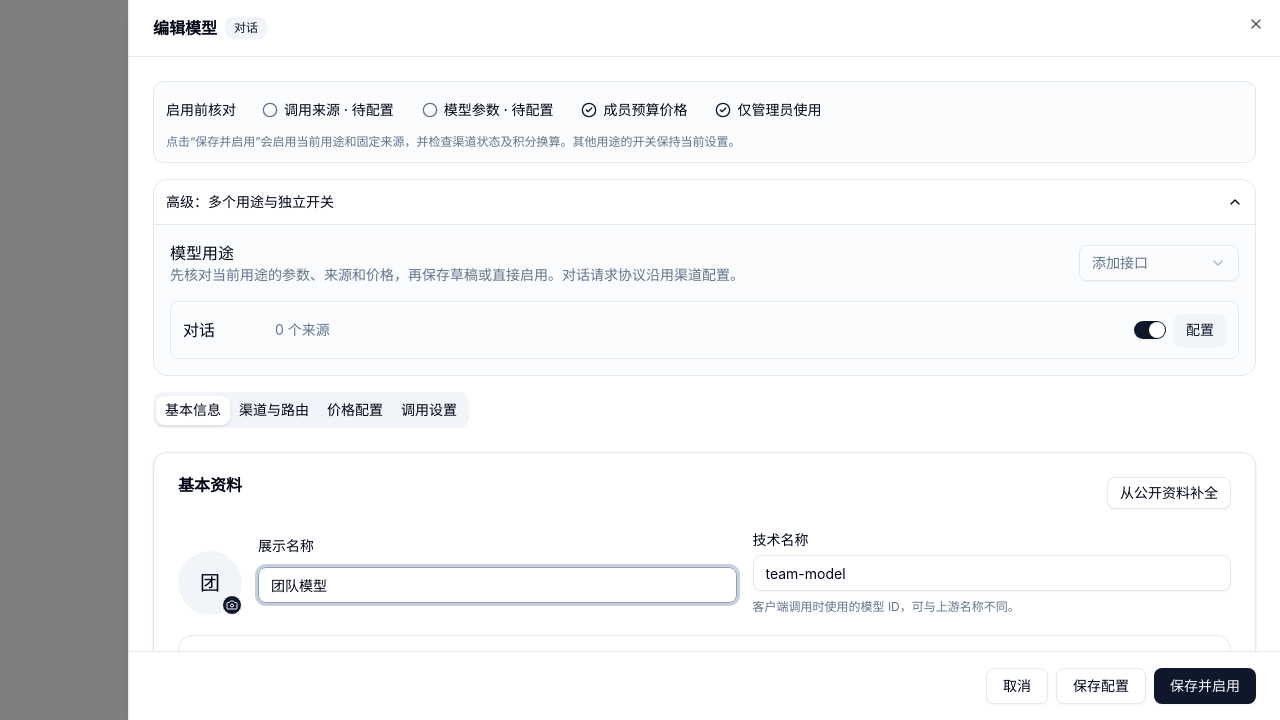
Scenario: shows a currency mismatch instead of a fabricated zero-point price
Click the tab "价格配置" at (355, 410), box left=318, top=396, right=392, bottom=424
(page scrolled)
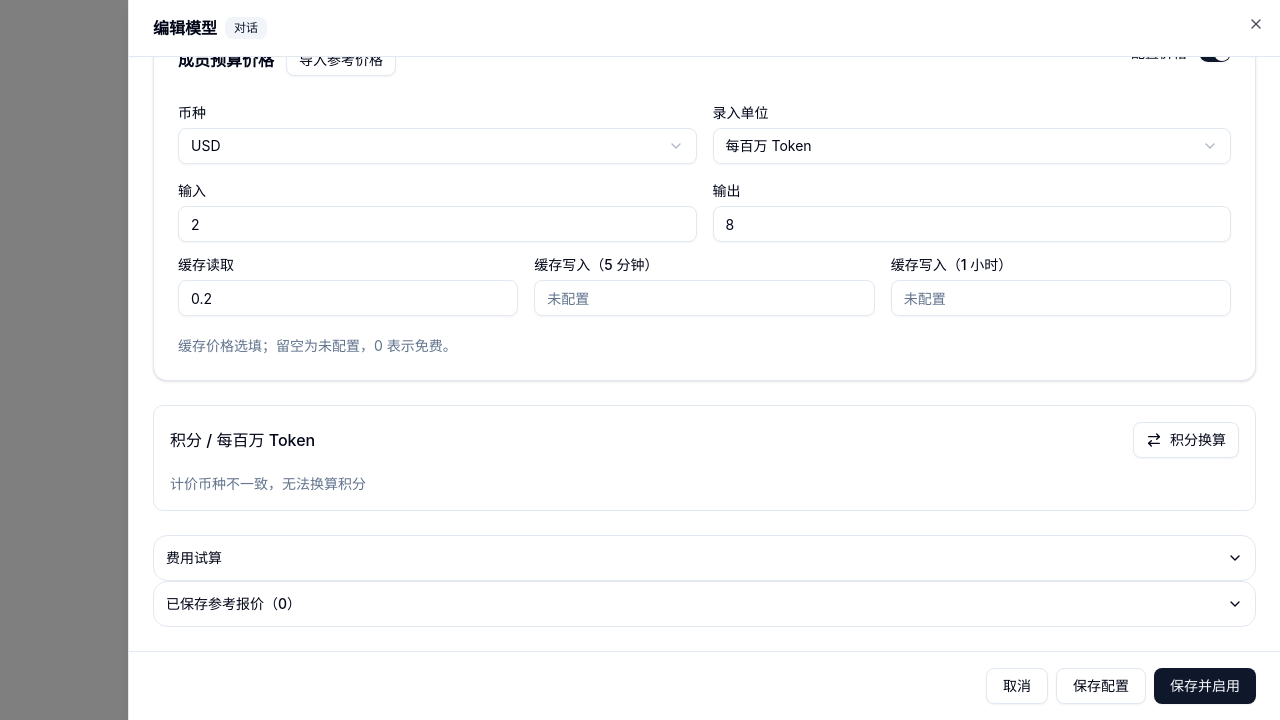
Check: the text "计价币种不一致，无法换算积分" is shown, box left=170, top=475, right=366, bottom=492
